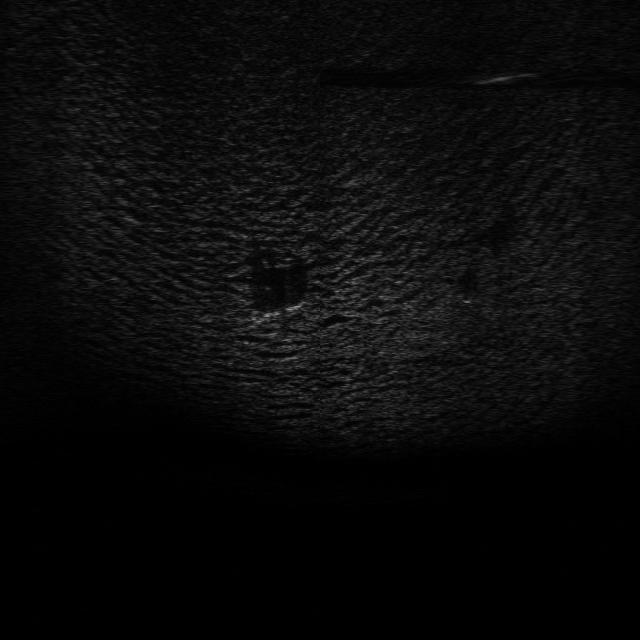plane: (240, 294, 310, 326)
